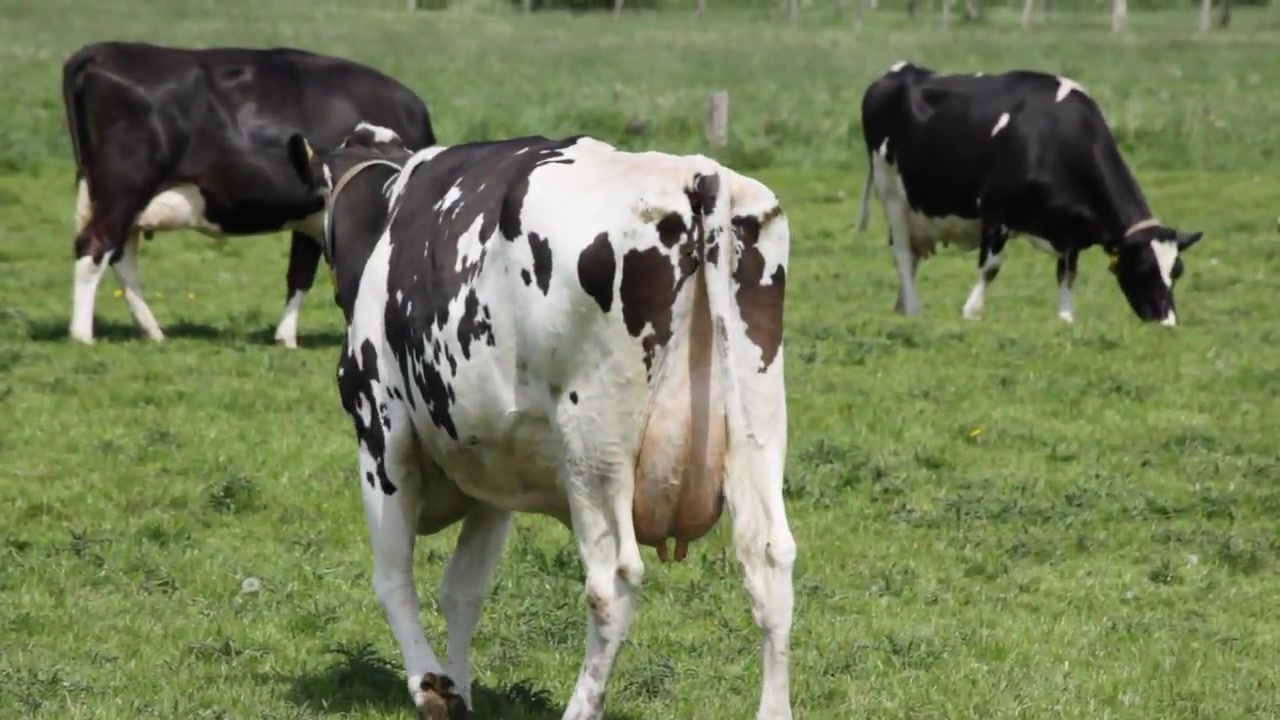cow: (287, 124, 800, 720)
